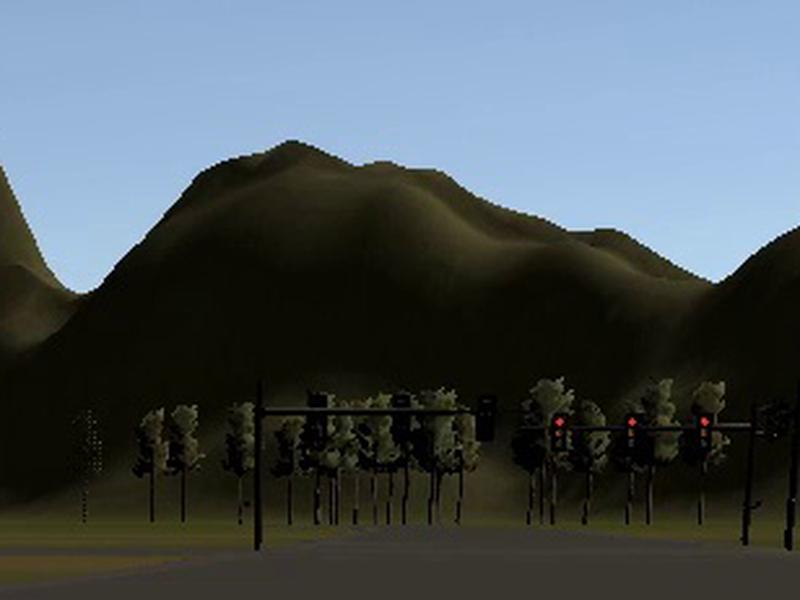Red: (553, 413, 566, 450), (625, 415, 638, 451), (698, 416, 710, 453)
